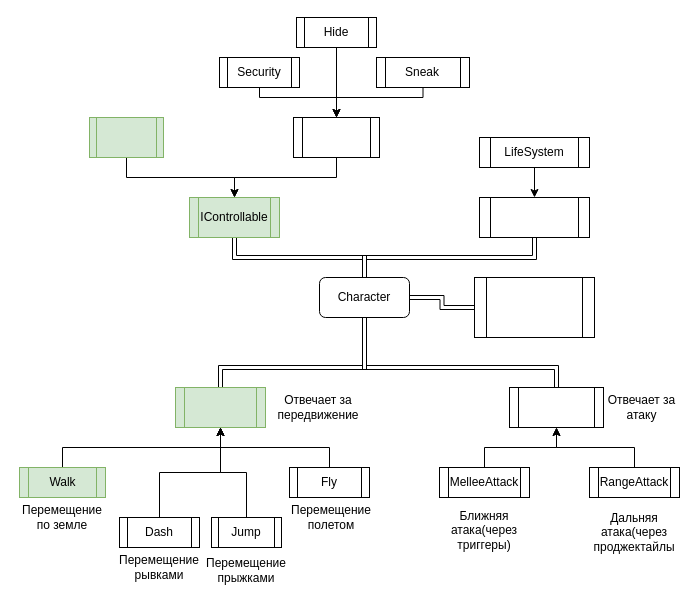
The diagram is 697 pixels wide and 610 high, and some of its shapes have lost their labels. The centre of each missing label's shape, as x and y in pixels:
Character animator: the point at 534,307
Computer: the point at 336,137
IAttack: the point at 556,407
ILive: the point at 534,217
IMovable: the point at 220,407
Player: the point at 126,137
